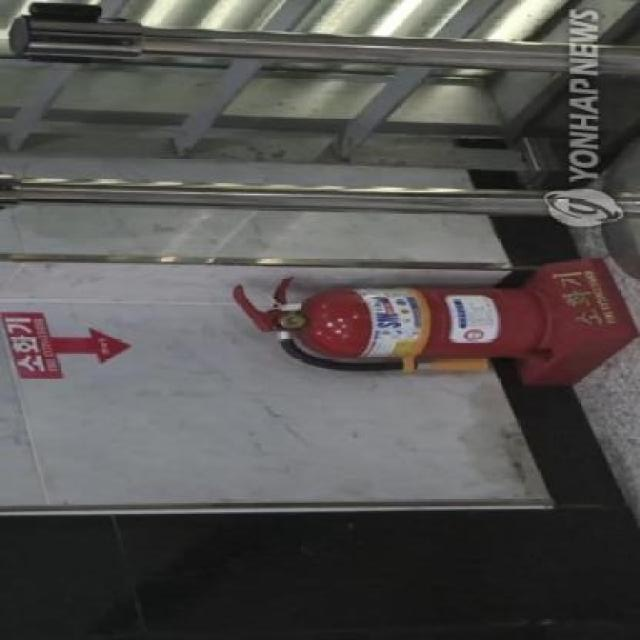fire extinguisher: (232, 276, 545, 373)
